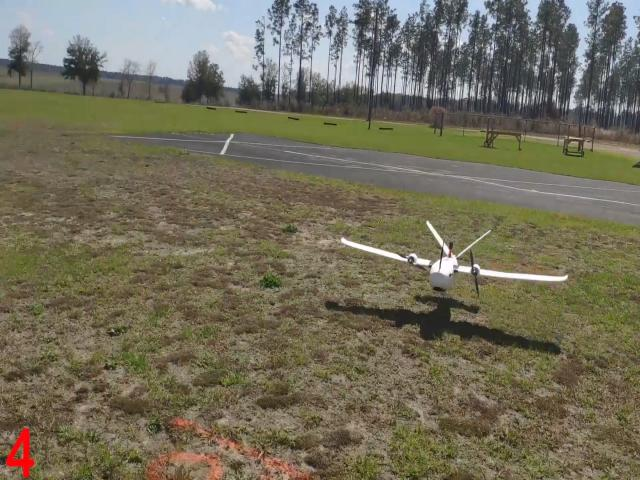plane: (340, 221, 568, 295)
